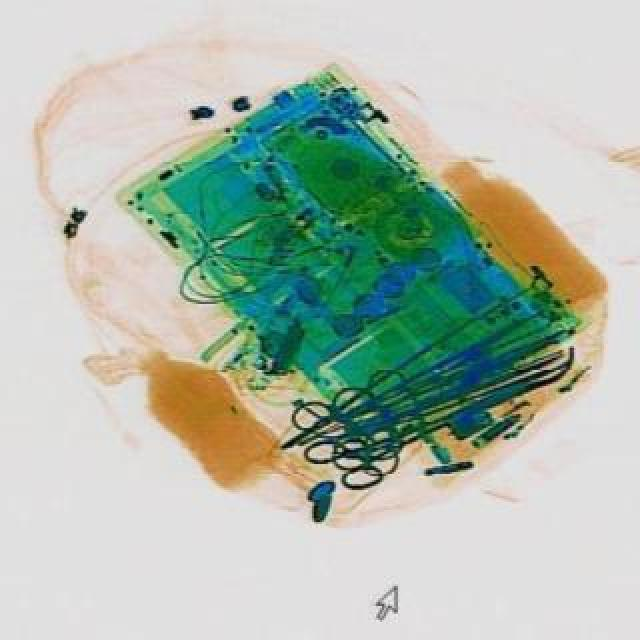pliers: (304, 386, 464, 506)
